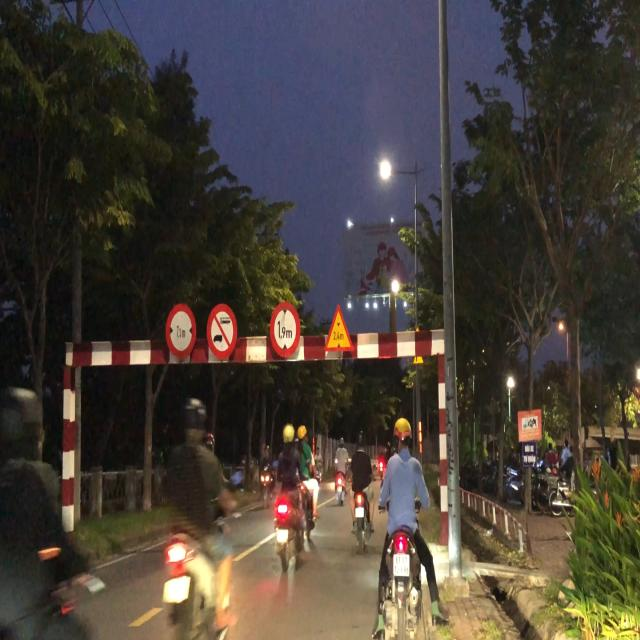Bien bao cam xe oto khach va xe oto tai: (204, 298, 240, 362)
Bien bao chieu cao tinh khong thuc te: (320, 302, 356, 356)
Bien bao han che chieu cao: (266, 298, 304, 364)
